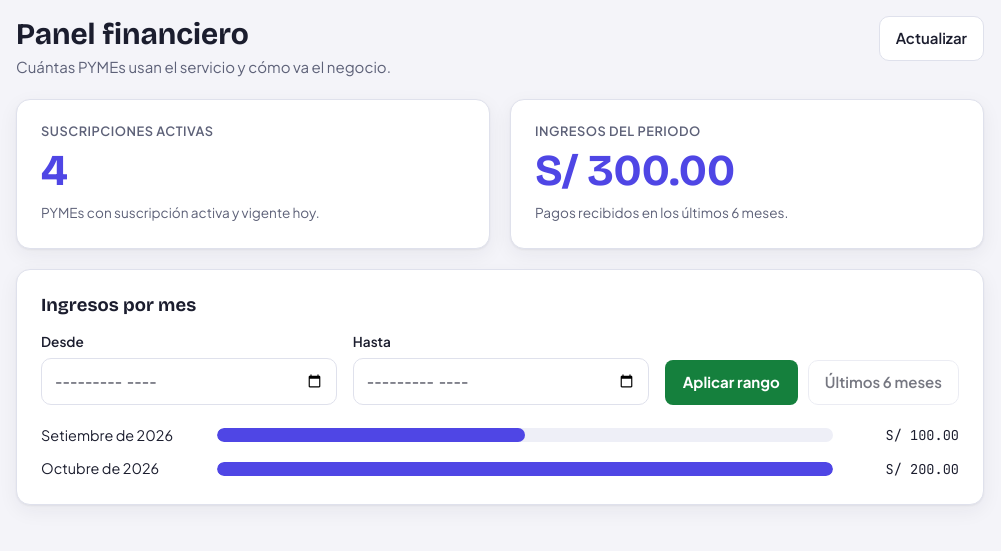
it: Filtro por rango de meses en el panel financiero (HU-07) › al corregir un mes el error desaparece
Expected: the text "octubre de 2026" is shown, [41, 459, 159, 477]
Type "2025-06" into the field labelled "Desde" at (189, 381), box [41, 358, 337, 405]
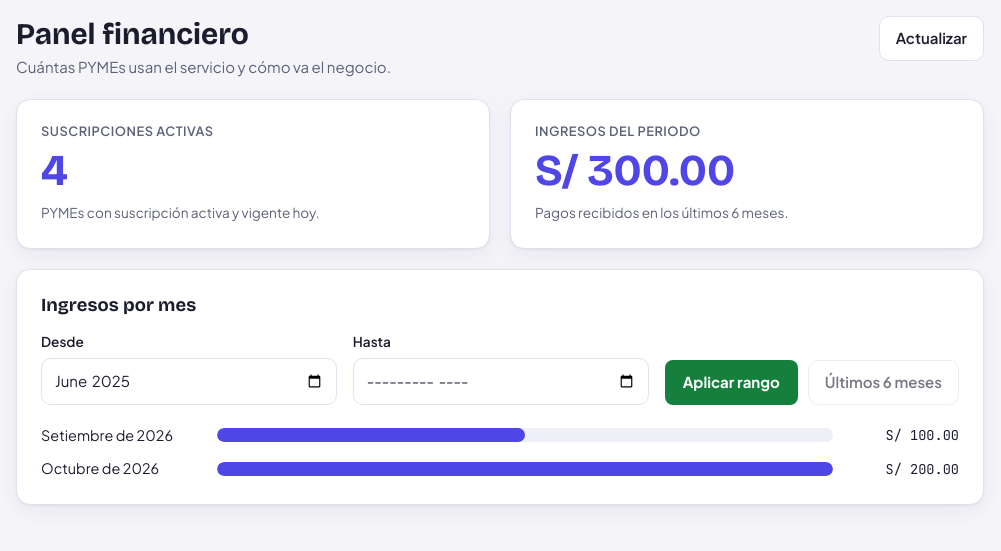
Type "2025-01" into the field labelled "Hasta" at (501, 381), box [353, 358, 649, 405]
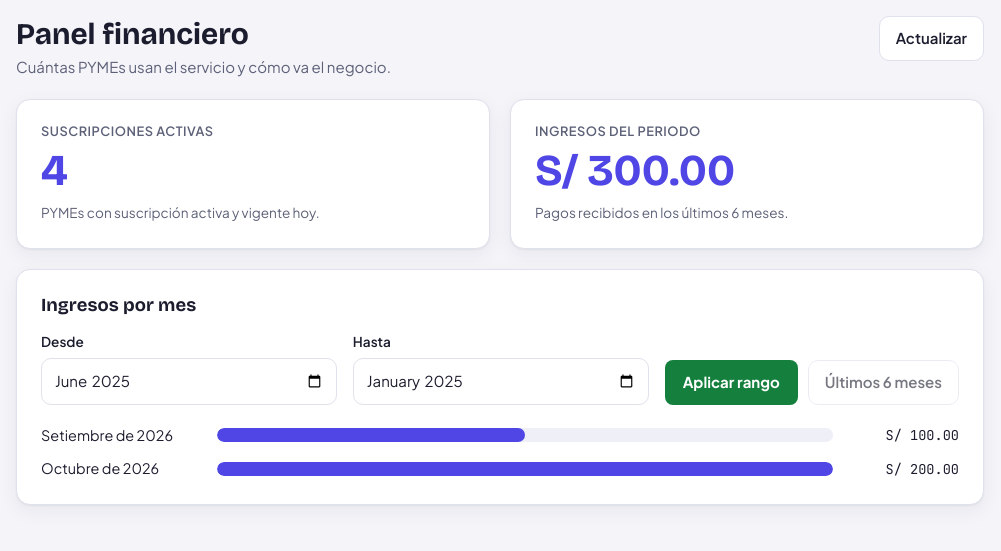
Click the button "Aplicar rango" at (731, 382), box [665, 360, 798, 405]
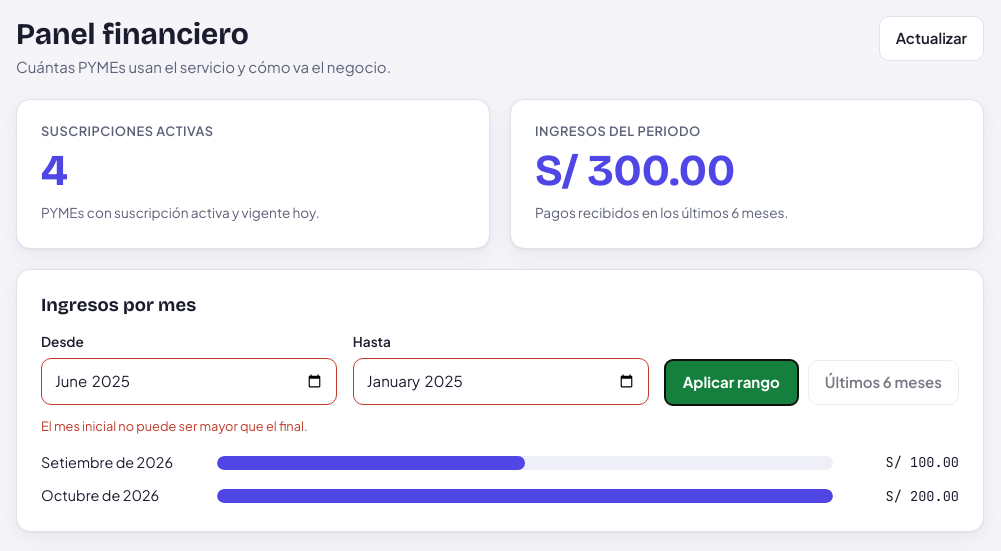
Replace the text in the field labelled "Hasta" with "2025-08" at (501, 381), box [353, 358, 649, 405]
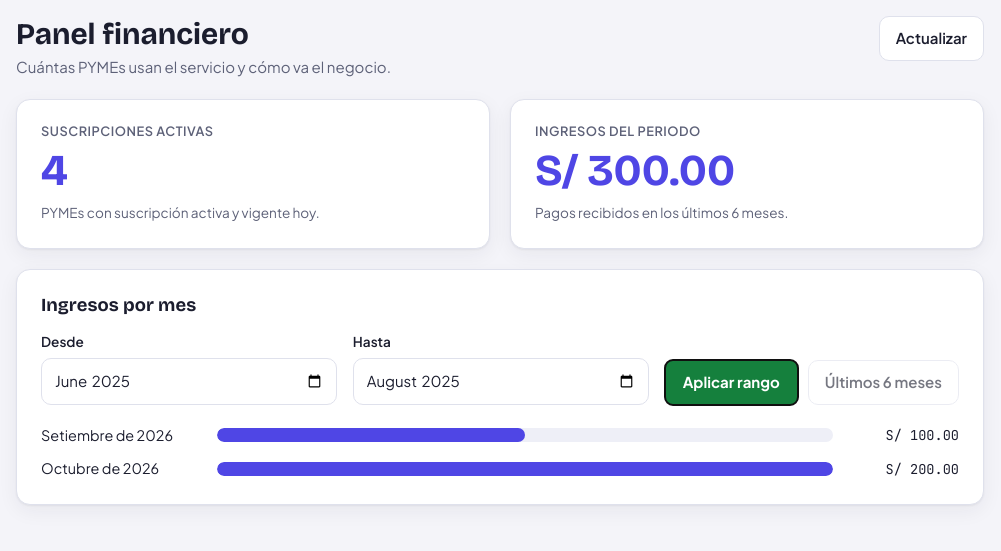
Expected: the text "El mes inicial no puede ser mayor que el final." is gone
